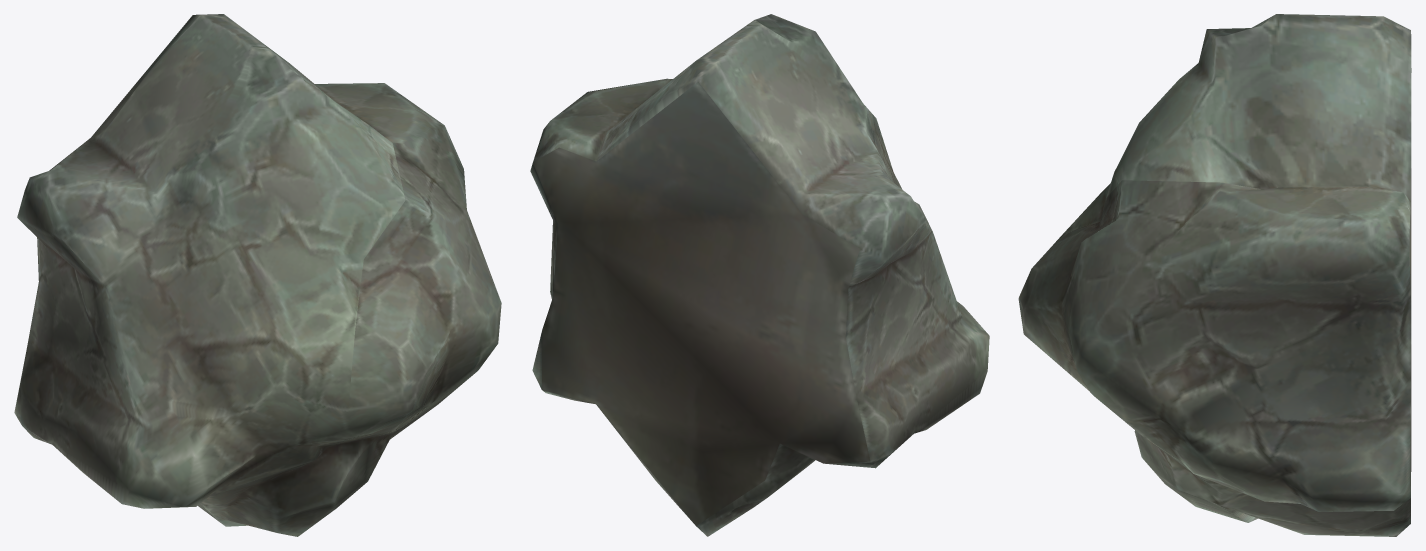
File: Ruins_Pillar_Dmg_D.fbx
3 views of the same model, side by side, from view 1: azimuth 30°, elevation 25°; view 2: azimuth 150°, elevation 25°; view 3: azimuth 270°, elevation 25° (orthographic). The views are drawn at different scales.
Parts seen in each view (by area): view 1: Ruins_Pillar_Dmg_D; view 2: Ruins_Pillar_Dmg_D; view 3: Ruins_Pillar_Dmg_D.
Part boxes in pixels (x1,y1,x2,y2): Ruins_Pillar_Dmg_D: [14, 14, 501, 536]; Ruins_Pillar_Dmg_D: [530, 14, 989, 536]; Ruins_Pillar_Dmg_D: [1018, 14, 1411, 536].
Bounding box in the file's own units: 300 × 381 × 259.
